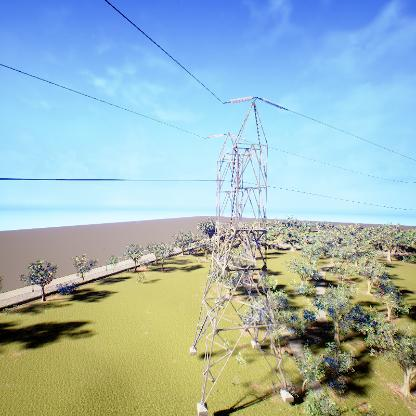tower: (188, 90, 298, 412)
